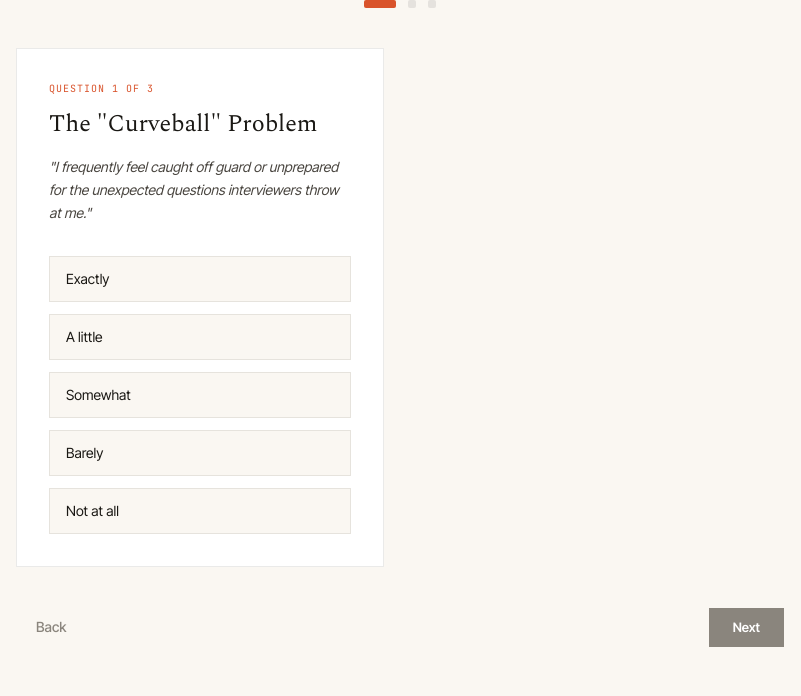
Test: SurveyStep › navigates back to screen 1 when Back is clicked
# Go to screen 2
Click the button "Exactly". click: click(88, 279)
box: x1=49 y1=256 x2=351 y2=302
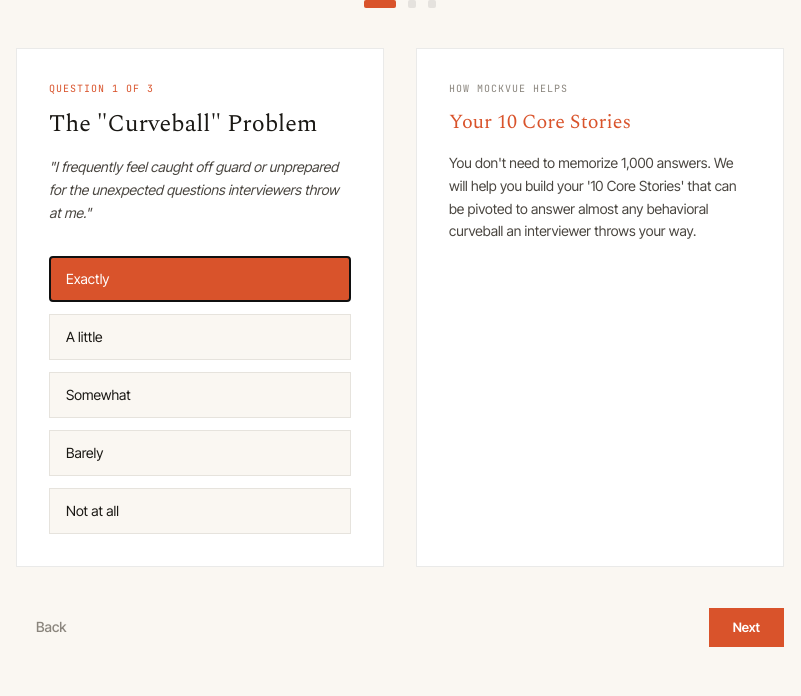
Click the button "Next". click: click(746, 627)
box: x1=709 y1=608 x2=784 y2=647
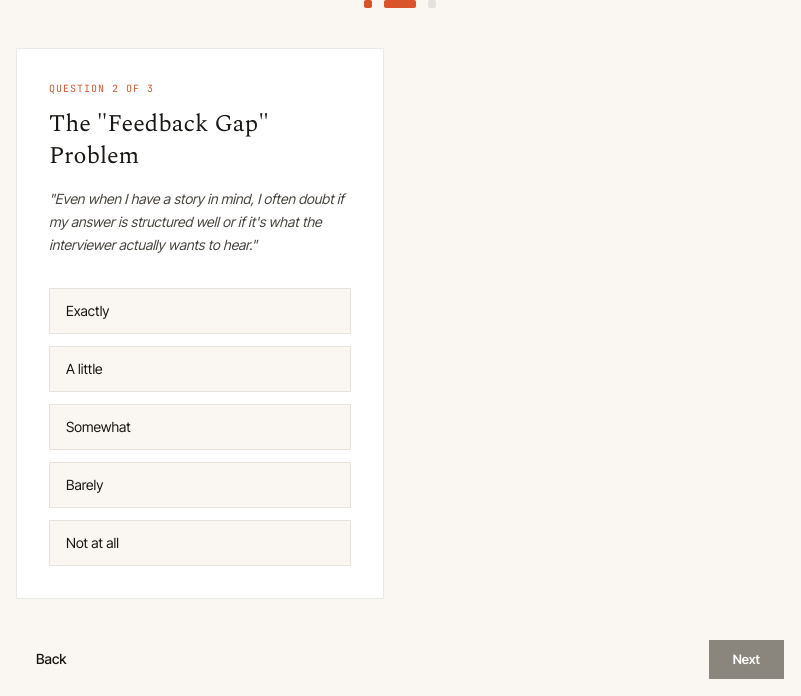
#  Go back
Click the button "Back". click: click(51, 659)
box: x1=16 y1=639 x2=87 y2=679
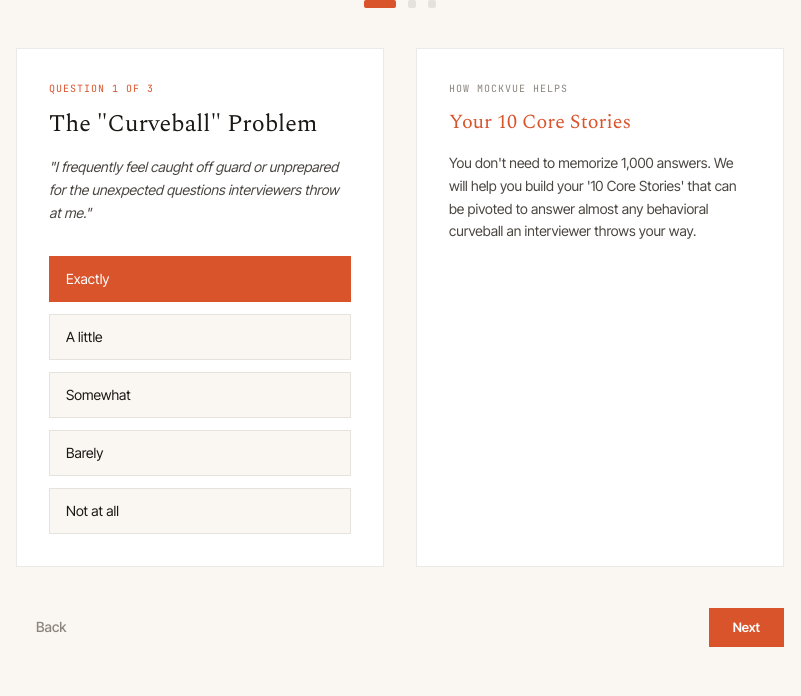
expect the heading "The \"Curveball\" Problem" is shown: met, box x1=49 y1=108 x2=351 y2=140
